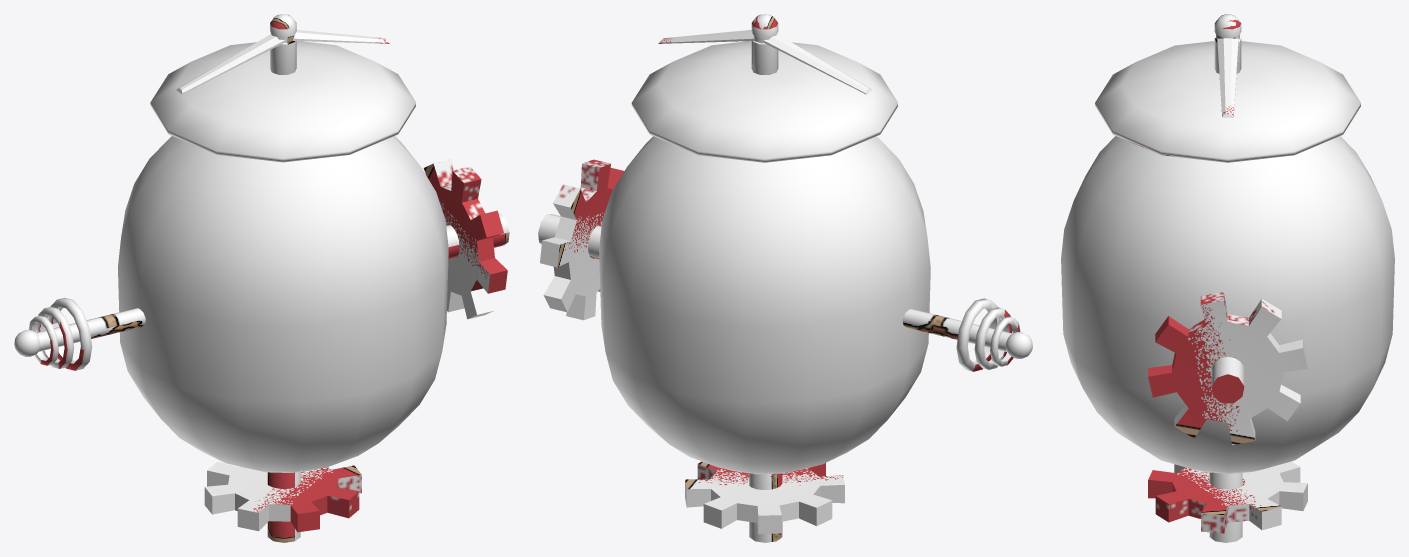
File: player_Assets.fbx
The picture shows the model from 3 angles, left to right: view 1: azimuth 30°, elevation 25°; view 2: azimuth 150°, elevation 25°; view 3: azimuth 270°, elevation 25°; orthographic projection.
Visible parts, largest first — view 1: core, disk, bottom_cog, back_cog, tesla, propellar, front_beam, antenna, bottom_beam, back_beam; view 2: core, disk, bottom_cog, back_cog, tesla, propellar, front_beam, antenna, bottom_beam, back_beam, electric ball; view 3: core, disk, back_cog, bottom_cog, propellar, back_beam, bottom_beam, antenna.
Boxes of the visible parts, x1,y1,x2,y2 form: core: (118, 136, 448, 472); disk: (150, 41, 415, 162); bottom_cog: (204, 461, 361, 532); back_cog: (423, 159, 507, 319); tesla: (28, 297, 92, 370); propellar: (176, 30, 389, 94); front_beam: (37, 308, 145, 351); antenna: (270, 14, 296, 74); bottom_beam: (267, 472, 300, 542); back_beam: (446, 213, 509, 258); core: (599, 136, 930, 474); disk: (631, 41, 897, 162); bottom_cog: (685, 461, 844, 534); back_cog: (540, 159, 624, 320); tesla: (956, 298, 1020, 371); propellar: (658, 30, 872, 94); front_beam: (903, 309, 1012, 351); antenna: (751, 14, 778, 74); bottom_beam: (749, 473, 782, 542); back_beam: (538, 214, 601, 259); electric ball: (1006, 332, 1032, 358); core: (1061, 136, 1394, 473); disk: (1095, 41, 1360, 162); back_cog: (1148, 292, 1307, 445); bottom_cog: (1148, 461, 1307, 533); propellar: (1217, 14, 1238, 117); back_beam: (1211, 357, 1244, 403); bottom_beam: (1209, 472, 1242, 542); antenna: (1214, 14, 1241, 73).
Size of the model in its own units: 291 by 298 by 174.
